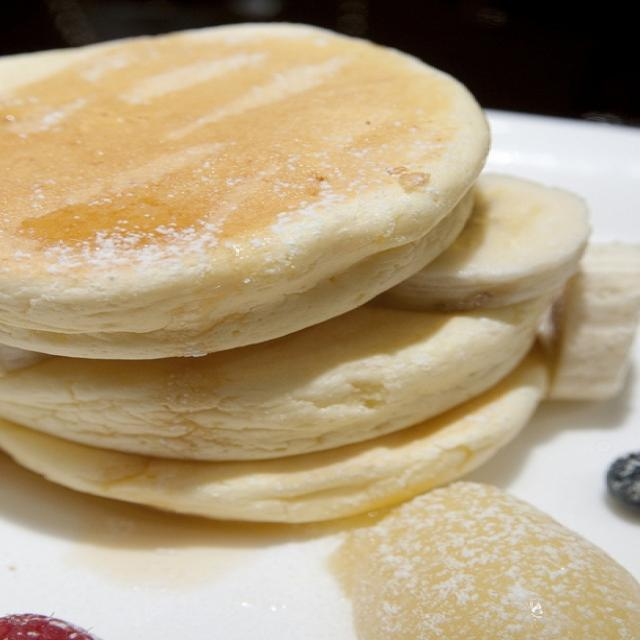蛋糕甜品: (2, 16, 635, 632)
